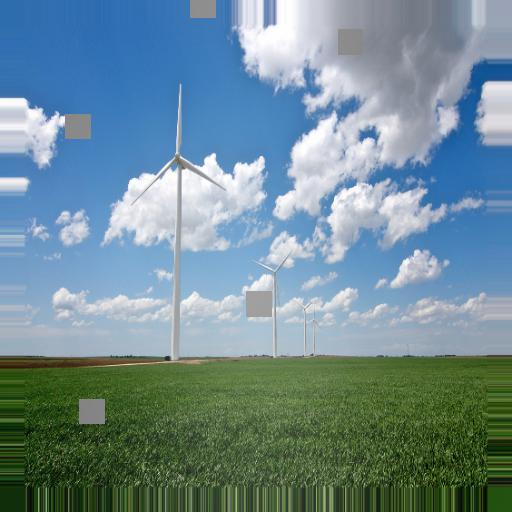wind turbine: (129, 81, 231, 364), (250, 248, 292, 364)
